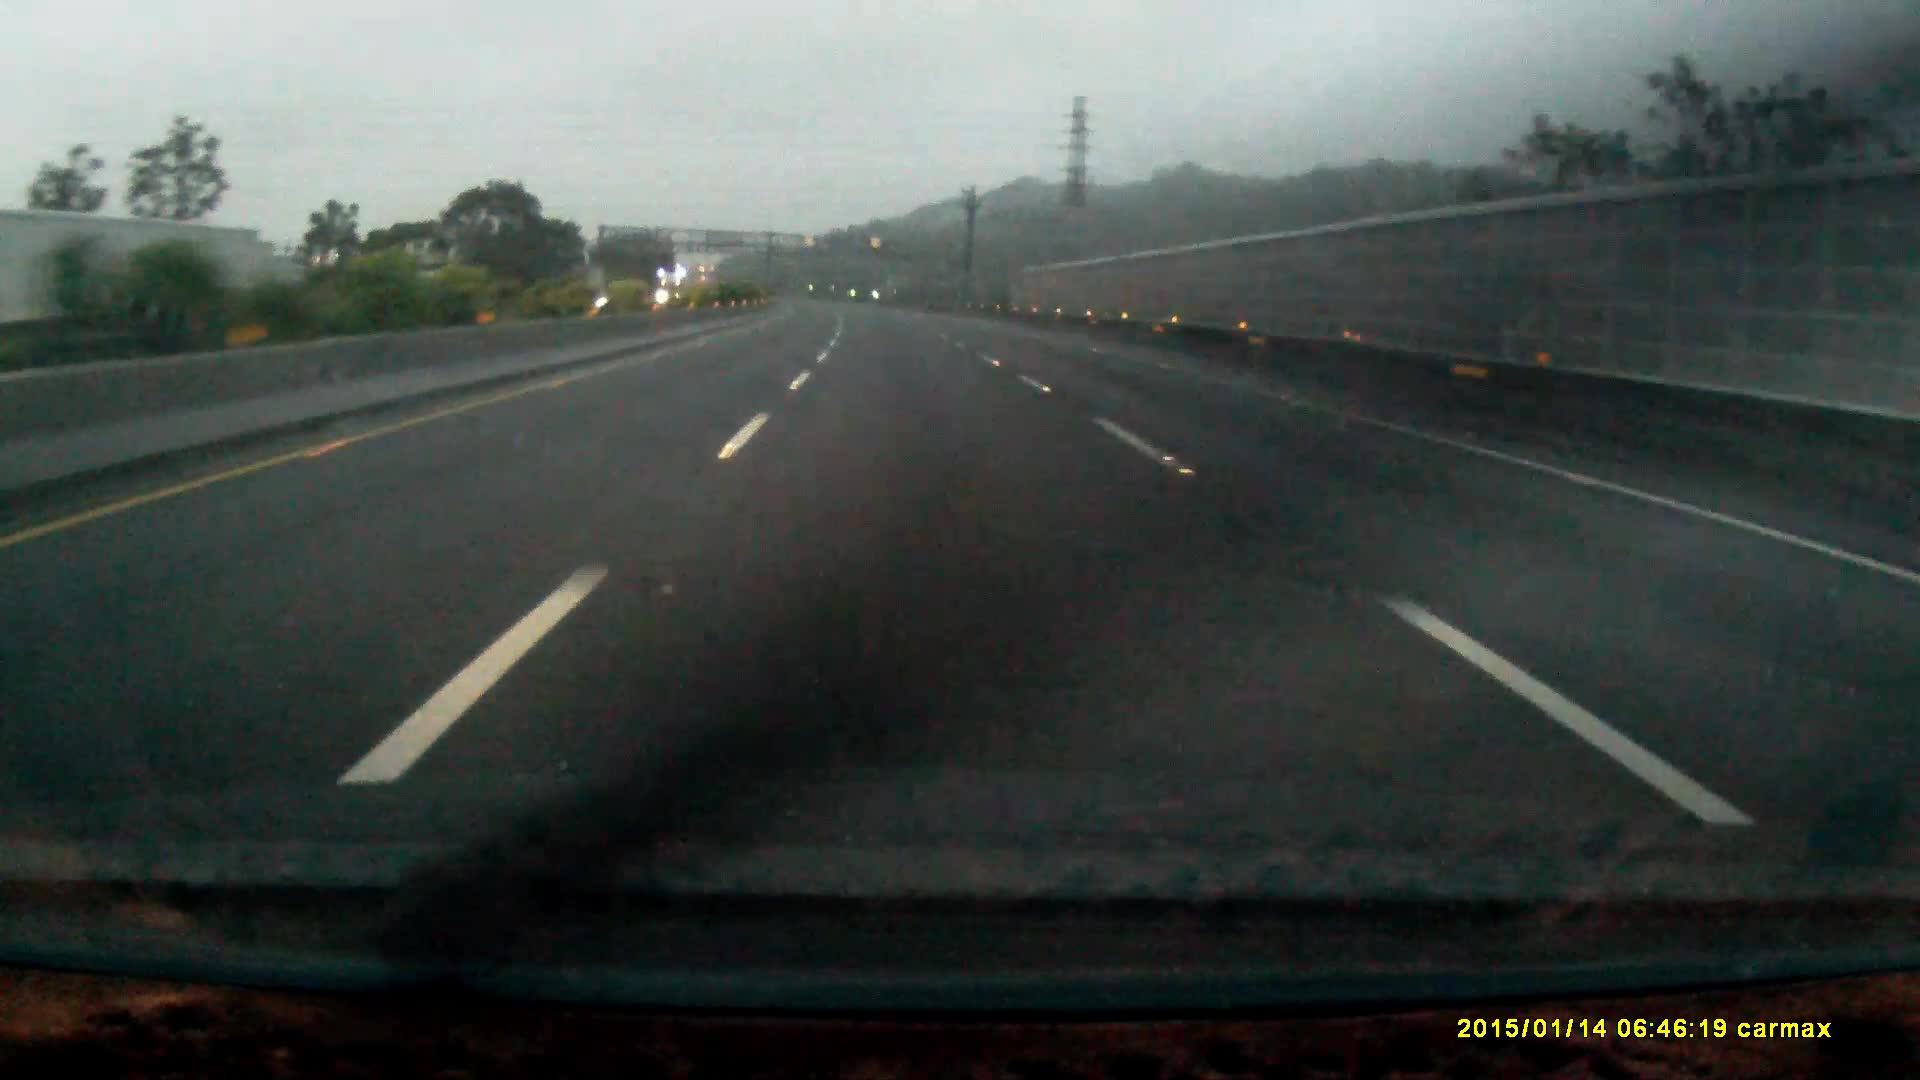vehicle: (657, 266, 695, 305)
